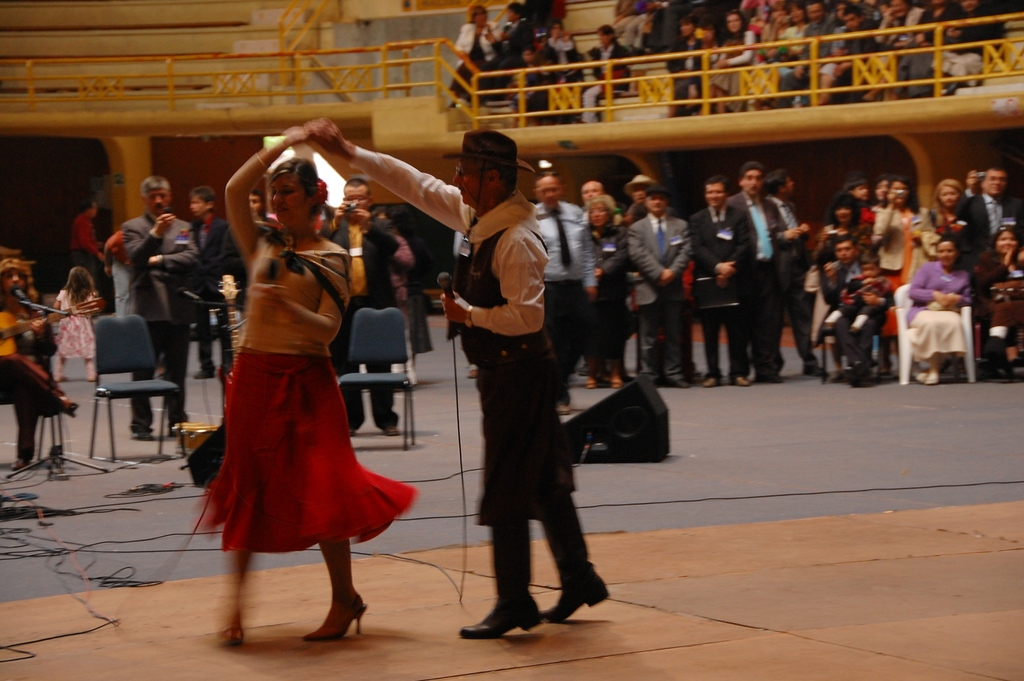Person: (0, 0, 1024, 647)
